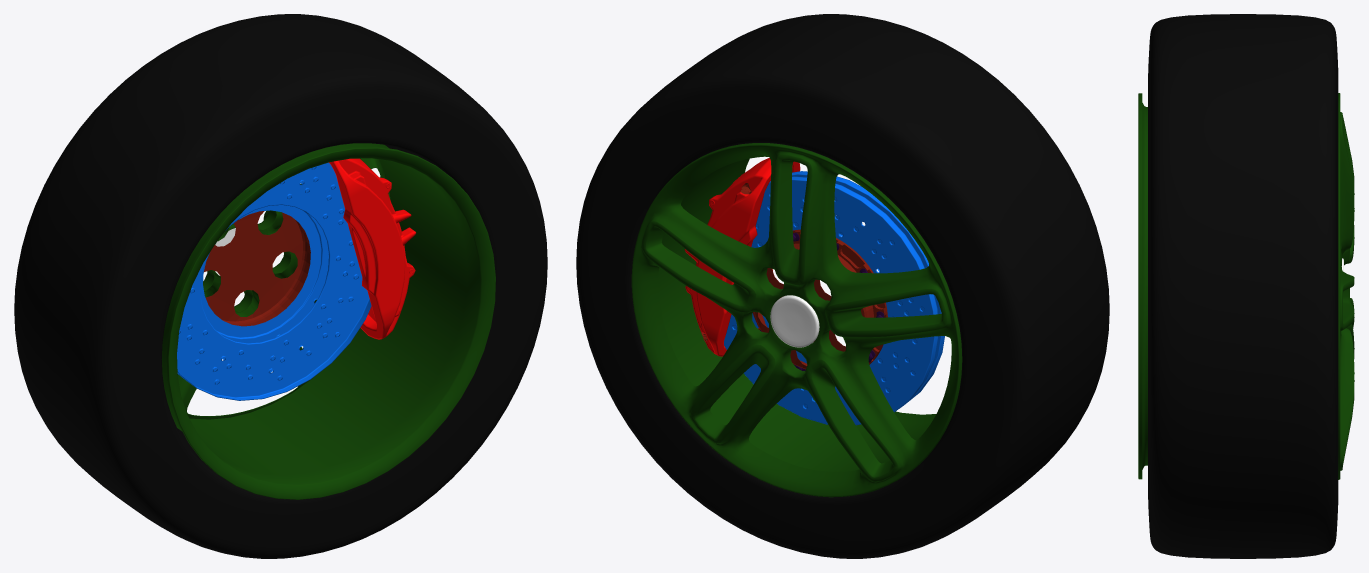
File: koleso.FBX
3 renders of one model, left to right at view 1: azimuth 30°, elevation 25°; view 2: azimuth 150°, elevation 25°; view 3: azimuth 270°, elevation 25°, orthographic. The views are drawn at different scales.
Visible parts, largest first — view 1: koleso002, disk, tormoz_disk001, chehol_tormoza001, lesvie001; view 2: koleso002, disk, tormoz_disk001, chehol_tormoza001, lesvie001, logo001; view 3: koleso002, disk.
Part boxes in pixels (x1,y1,x2,y2): koleso002: (14,14,547,558); disk: (161,143,495,499); tormoz_disk001: (177,162,371,400); chehol_tormoza001: (329,158,415,339); lesvie001: (203,211,310,326); koleso002: (576,14,1109,558); disk: (631,143,962,497); tormoz_disk001: (724,171,944,425); chehol_tormoza001: (684,158,800,356); lesvie001: (701,183,887,369); logo001: (770,295,819,347); koleso002: (1148,14,1338,558); disk: (1138,93,1354,479).
Size of the model in its own units: 372 by 372 by 147.
